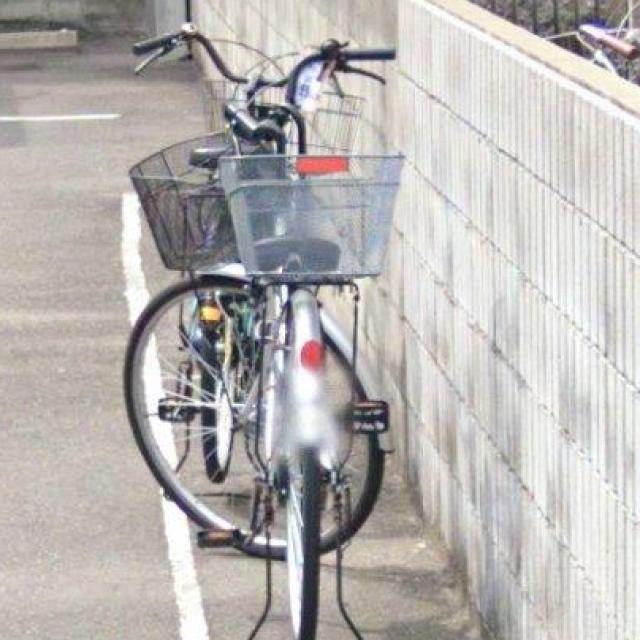bicycle: (126, 28, 405, 640)
